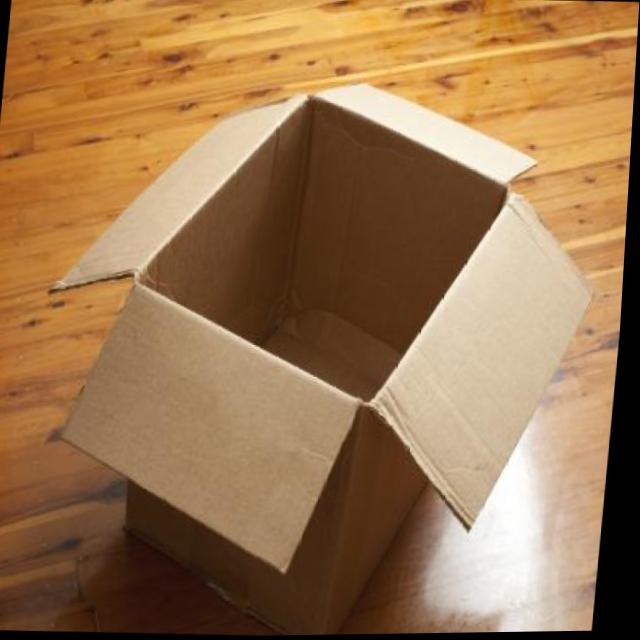box: (19, 65, 619, 639)
